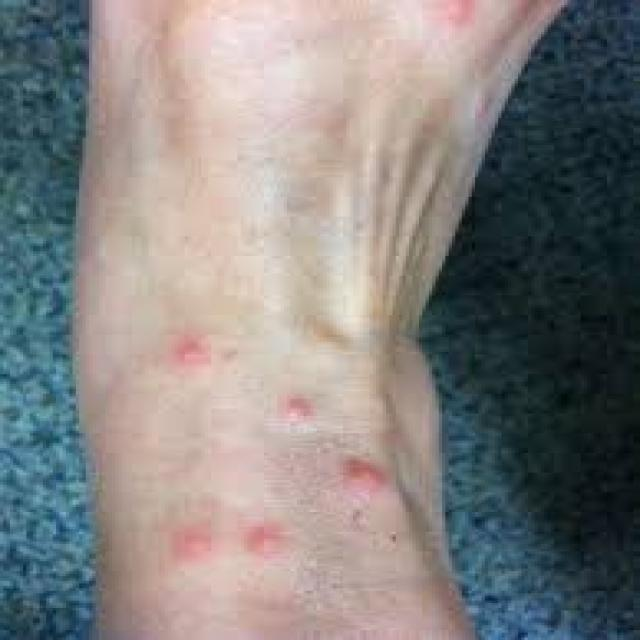kan emici bocekler: (328, 465, 406, 514), (165, 336, 238, 379), (308, 326, 373, 373), (137, 534, 232, 566), (261, 395, 322, 430), (244, 530, 289, 567)
